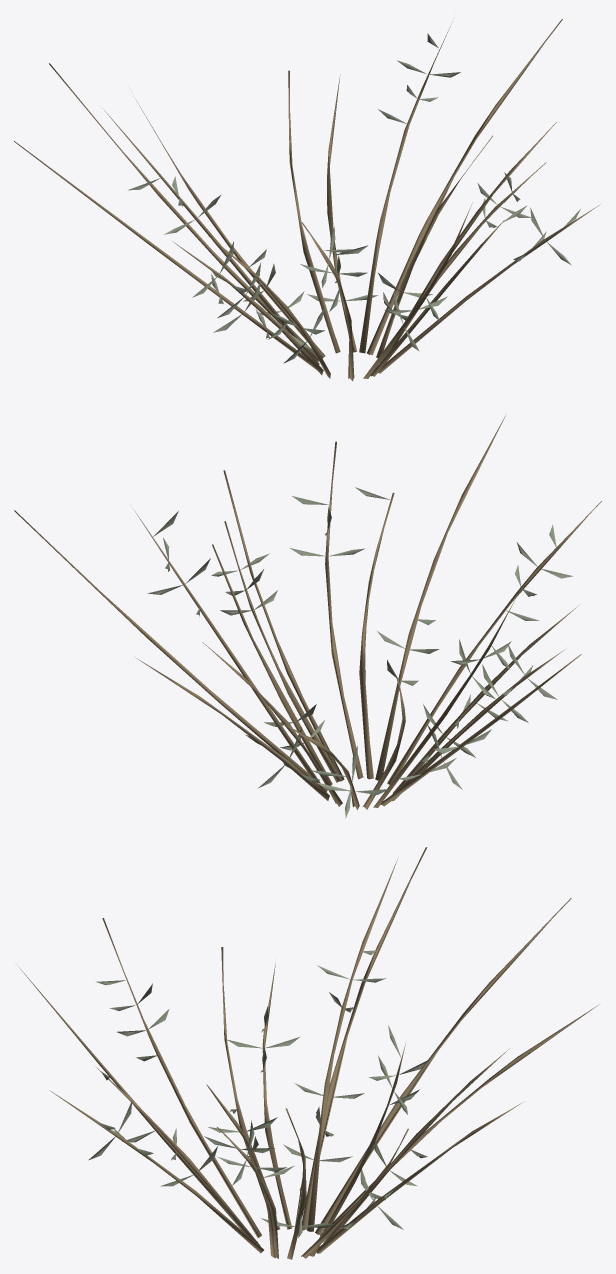
The model's file is Lavande_2_Niveau2.fbx.
3 renders of one model, top to bottom at view 1: azimuth 30°, elevation 25°; view 2: azimuth 150°, elevation 25°; view 3: azimuth 270°, elevation 25°, orthographic. The views are drawn at different scales.
Parts seen in each view (by area): view 1: Lavande_2_Niveau2; view 2: Lavande_2_Niveau2; view 3: Lavande_2_Niveau2.
Part boxes in pixels (left/top/right/bottom): Lavande_2_Niveau2: left=14, top=19, right=600, bottom=381; Lavande_2_Niveau2: left=14, top=413, right=601, bottom=818; Lavande_2_Niveau2: left=17, top=847, right=599, bottom=1259.
Bounding box in the file's own units: 86.31 × 41.74 × 77.14.
